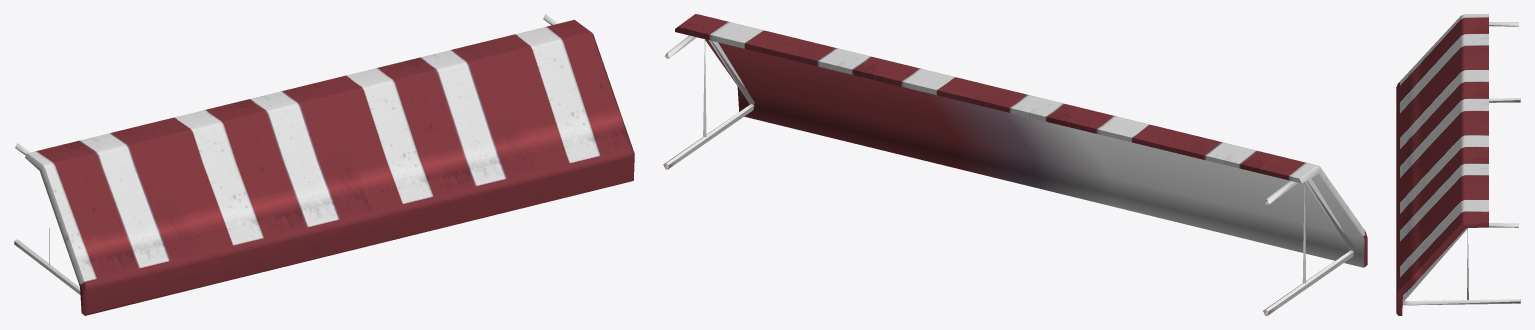
File: _static_CommercialTent_10.fbx
3 views of the same model, side by side, from view 1: azimuth 30°, elevation 25°; view 2: azimuth 150°, elevation 25°; view 3: azimuth 270°, elevation 25° (orthographic). The views are drawn at different scales.
Visible parts, largest first — view 1: _static_CommercialTent_10; view 2: _static_CommercialTent_10; view 3: _static_CommercialTent_10.
Boxes of the visible parts, <box> form: _static_CommercialTent_10: <box>14,14,634,315</box>; _static_CommercialTent_10: <box>663,14,1367,315</box>; _static_CommercialTent_10: <box>1396,14,1520,315</box>.
Size of the model in its own units: 548 by 114 by 137.
